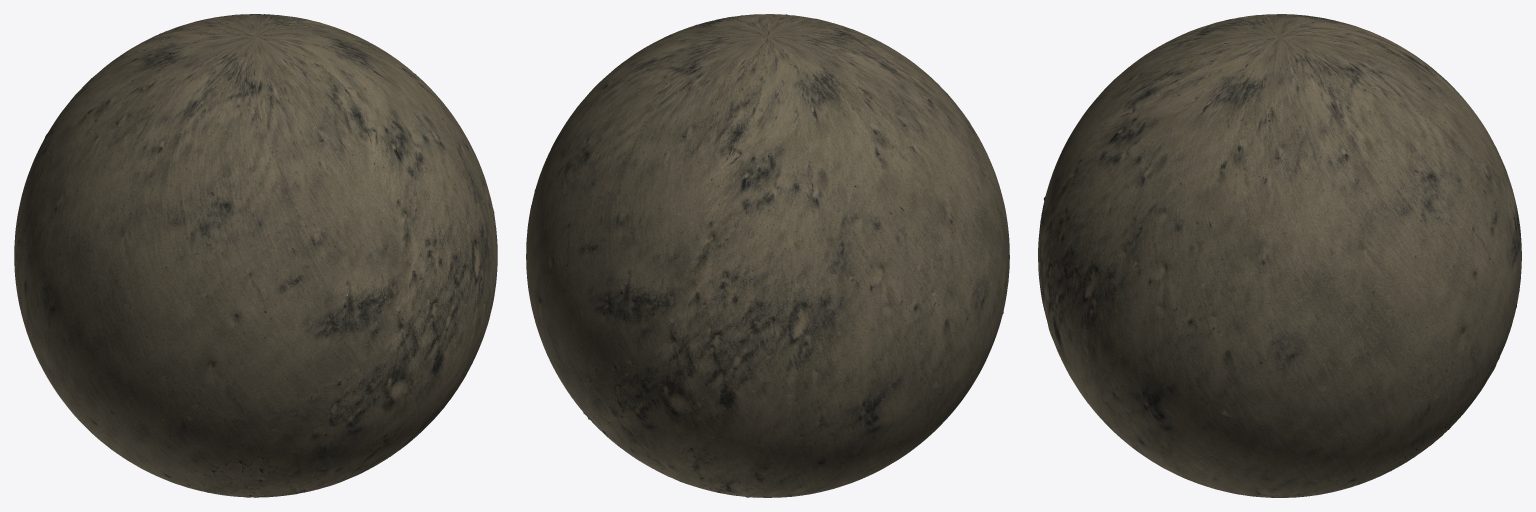
The model's file is damp_beach_sand_02_1k.gltf.
3 views of the same model, side by side, from view 1: azimuth 30°, elevation 25°; view 2: azimuth 150°, elevation 25°; view 3: azimuth 270°, elevation 25° (orthographic).
Visible parts, largest first — view 1: sphere_gltf; view 2: sphere_gltf; view 3: sphere_gltf.
Part boxes in pixels (x1,y1,x2,y2): sphere_gltf: (14, 14, 497, 497); sphere_gltf: (526, 14, 1009, 497); sphere_gltf: (1038, 14, 1521, 497).
Size of the model in its own units: 1.87 by 1.87 by 1.87.
1 material, 1 textured.
